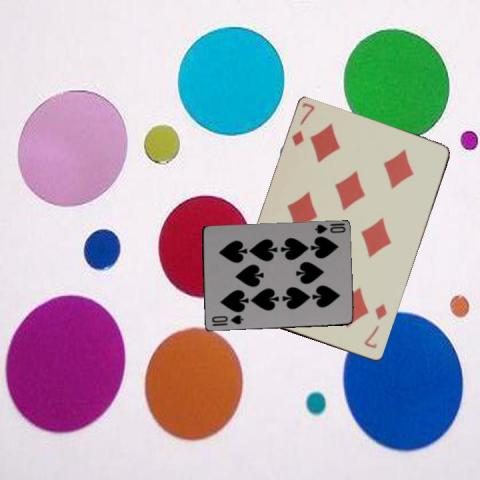10s: (311, 222, 347, 236), (209, 312, 244, 326)
7d: (360, 301, 388, 350), (288, 100, 316, 148)
